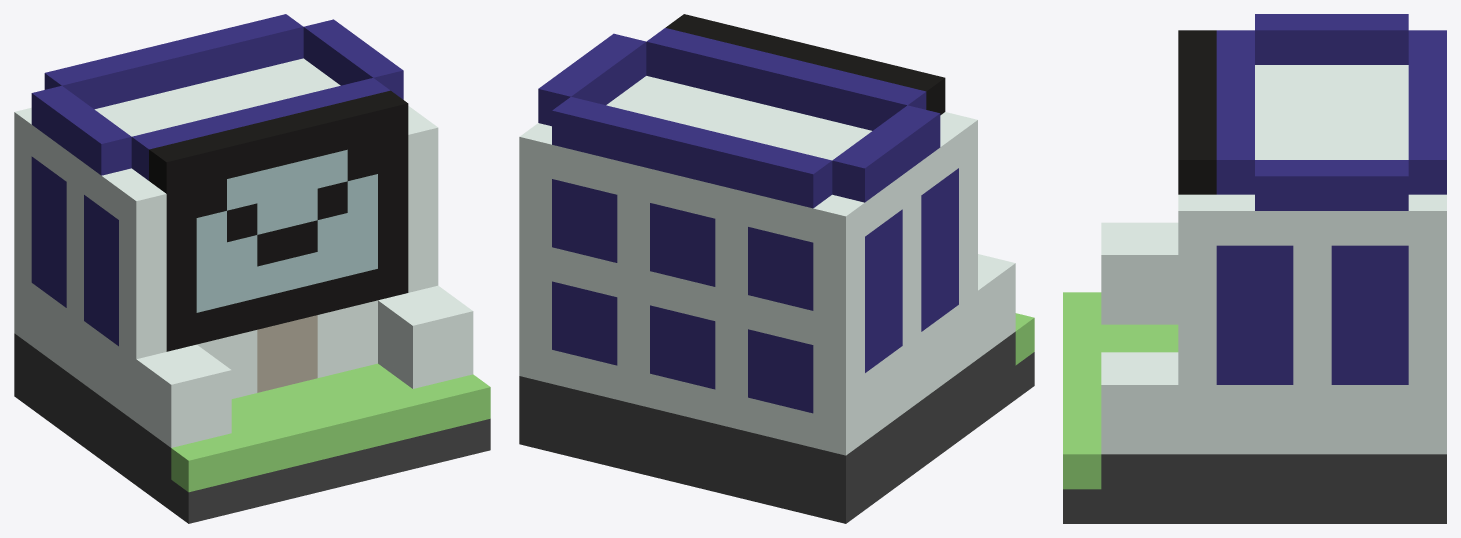
File: post_office.obj
The picture shows the model from 3 angles, left to right: view 1: azimuth 30°, elevation 25°; view 2: azimuth 150°, elevation 25°; view 3: azimuth 270°, elevation 25°; orthographic projection. The views are drawn at different scales.
Bounding box in the file's own units: 1 × 1 × 1.
Materials: 1 (1 with a texture image).
